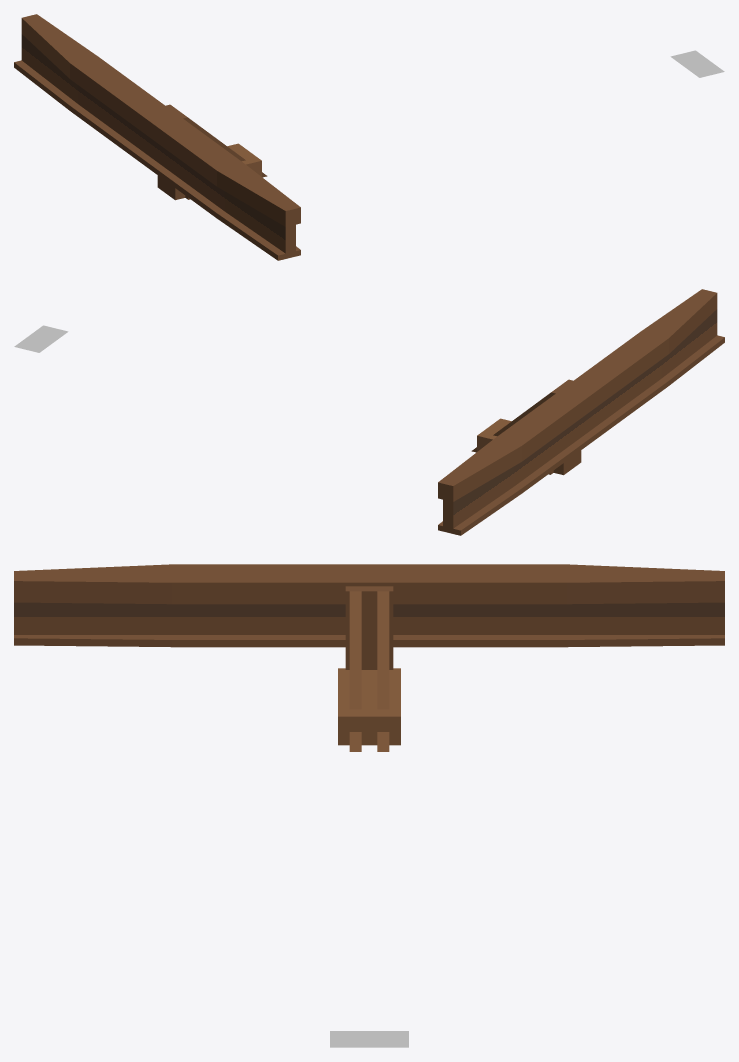
File: check_rail.obj
3 views of the same model, one above another, from view 1: azimuth 30°, elevation 25°; view 2: azimuth 150°, elevation 25°; view 3: azimuth 270°, elevation 25° (orthographic). The views are drawn at different scales.
Visible parts, largest first — view 1: cube; view 2: cube; view 3: cube.
Part boxes in pixels (x1=…): cube: x1=14, y1=14, x2=724, y2=260; cube: x1=14, y1=289, x2=724, y2=535; cube: x1=14, y1=564, x2=724, y2=1047.
Size of the model in its own units: 1.39 by 0.1937 by 1.12.
